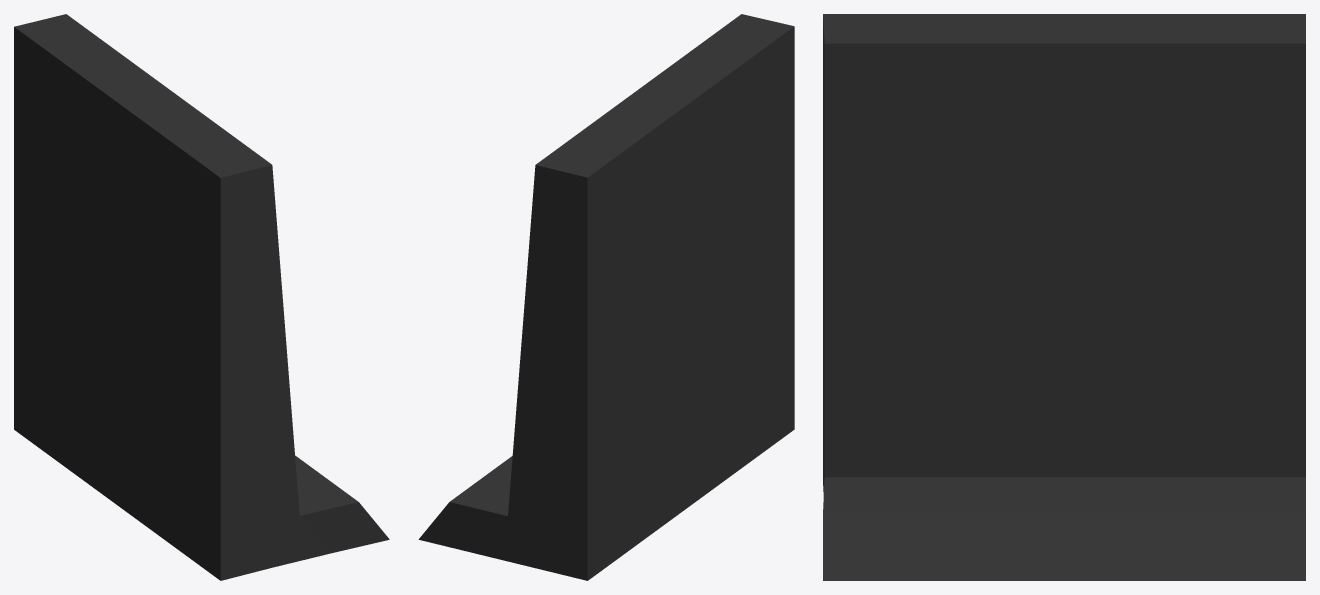
Rendered from BookStop.fbx.
3 renders of one model, left to right at view 1: azimuth 30°, elevation 25°; view 2: azimuth 150°, elevation 25°; view 3: azimuth 270°, elevation 25°, orthographic. The views are drawn at different scales.
Visible parts, largest first — view 1: Cube; view 2: Cube; view 3: Cube.
Boxes of the visible parts, x1=… form: Cube: x1=14, y1=14, x2=389, y2=580; Cube: x1=418, y1=14, x2=794, y2=580; Cube: x1=823, y1=14, x2=1305, y2=580.
Size of the model in its own units: 56.21 by 128 by 119.
